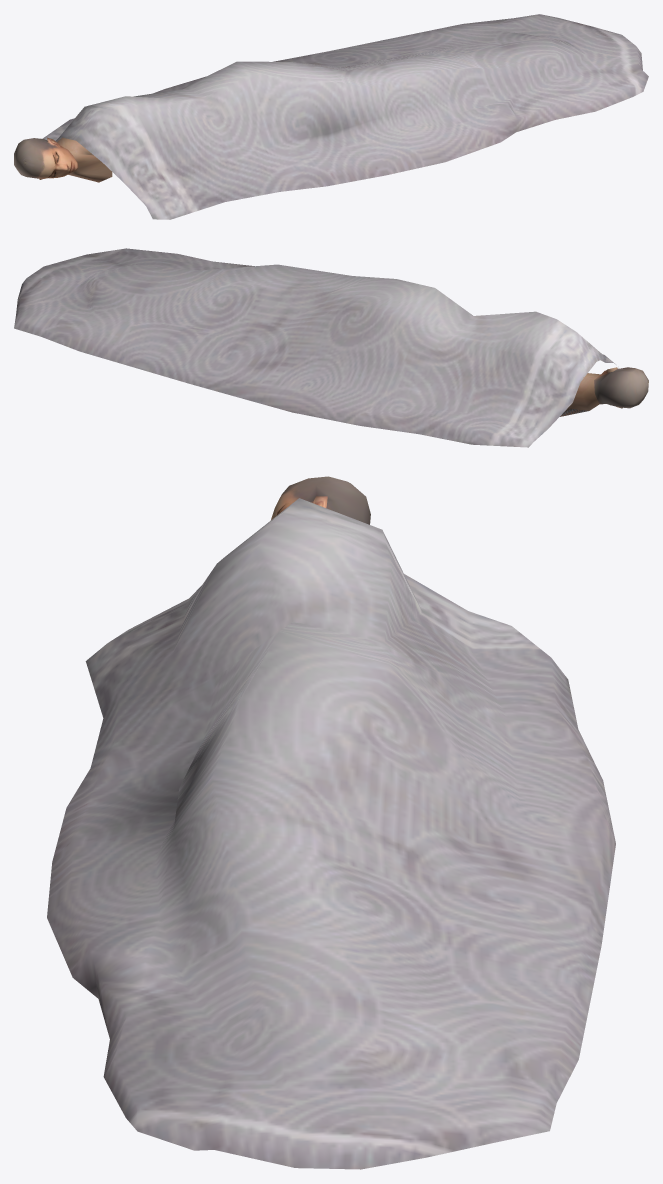
File: chuang01_shaolin_56_08_6933out.fbx
The picture shows the model from 3 angles, top to bottom: view 1: azimuth 30°, elevation 25°; view 2: azimuth 150°, elevation 25°; view 3: azimuth 270°, elevation 25°; orthographic projection. The views are drawn at different scales.
Parts seen in each view (by area): view 1: chuang01_juese; view 2: chuang01_juese; view 3: chuang01_juese.
Part boxes in pixels (box(x1,y1,x2,y2)): chuang01_juese: box(14, 14, 648, 219); chuang01_juese: box(14, 248, 648, 447); chuang01_juese: box(47, 476, 615, 1169).
Size of the model in its own units: 2.53 by 0.3144 by 1.02.
